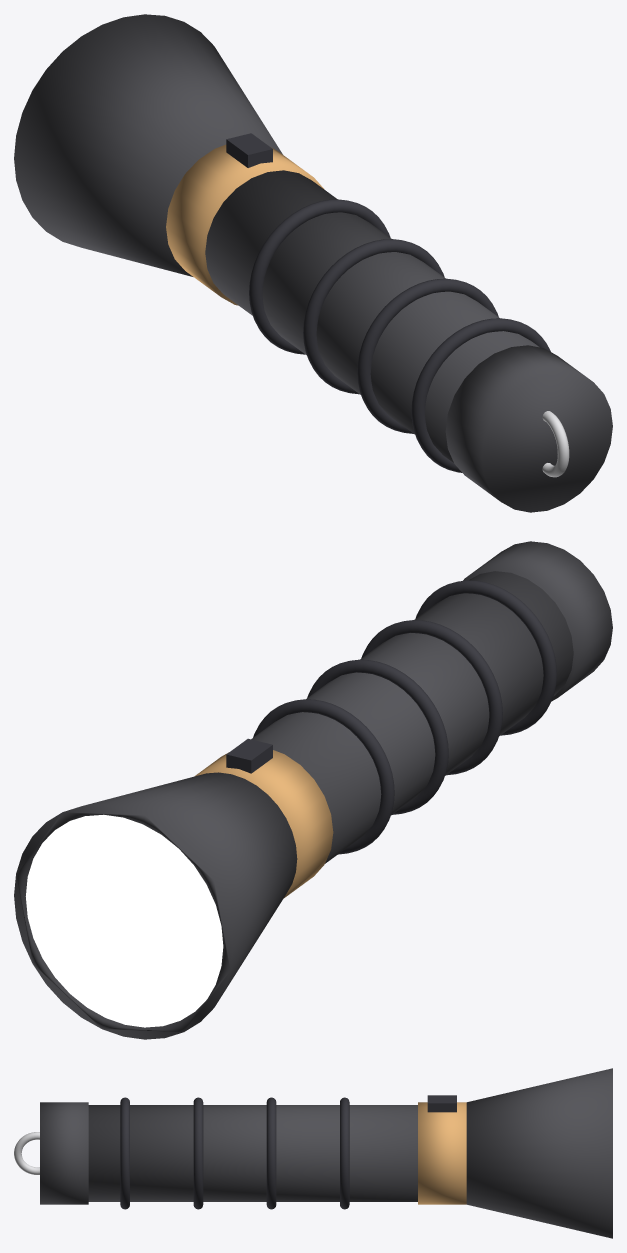
Rendered from torch.glb.
The picture shows the model from 3 angles, top to bottom: view 1: azimuth 30°, elevation 25°; view 2: azimuth 150°, elevation 25°; view 3: azimuth 270°, elevation 25°; orthographic projection. The views are drawn at different scales.
Visible parts, largest first — view 1: Torch_Head_Outer, Torch_Handle, Torch_Tailcap, Torch_Copper_Neck, Torch_Grip_Ring_4, Torch_Grip_Ring_3, Torch_Grip_Ring_2, Torch_Grip_Ring_1, Torch_Power_Switch, Torch_Lanyard_Loop; view 2: Torch_Handle, Torch_Front_Lens, Torch_Head_Outer, Torch_Tailcap, Torch_Copper_Neck, Torch_Grip_Ring_4, Torch_Grip_Ring_1, Torch_Grip_Ring_2, Torch_Grip_Ring_3, Torch_Power_Switch; view 3: Torch_Handle, Torch_Head_Outer, Torch_Tailcap, Torch_Copper_Neck, Torch_Grip_Ring_2, Torch_Grip_Ring_3, Torch_Grip_Ring_1, Torch_Grip_Ring_4, Torch_Power_Switch, Torch_Lanyard_Loop.
Part boxes in pixels (x1=…): Torch_Head_Outer: x1=14, y1=14, x2=282, y2=276; Torch_Handle: x1=205, y1=170, x2=539, y2=462; Torch_Tailcap: x1=445, y1=345, x2=612, y2=512; Torch_Copper_Neck: x1=166, y1=144, x2=324, y2=305; Torch_Grip_Ring_4: x1=249, y1=199, x2=390, y2=354; Torch_Grip_Ring_3: x1=303, y1=239, x2=444, y2=394; Torch_Grip_Ring_2: x1=357, y1=278, x2=498, y2=433; Torch_Grip_Ring_1: x1=411, y1=318, x2=550, y2=472; Torch_Power_Switch: x1=226, y1=133, x2=272, y2=167; Torch_Lanyard_Loop: x1=542, y1=411, x2=569, y2=477; Torch_Handle: x1=251, y1=571, x2=573, y2=863; Torch_Front_Lens: x1=25, y1=814, x2=223, y2=1027; Torch_Head_Outer: x1=14, y1=772, x2=297, y2=1039; Torch_Tailcap: x1=463, y1=541, x2=612, y2=701; Torch_Copper_Neck: x1=194, y1=750, x2=333, y2=898; Torch_Grip_Ring_4: x1=253, y1=699, x2=394, y2=854; Torch_Grip_Ring_1: x1=415, y1=580, x2=556, y2=735; Torch_Grip_Ring_2: x1=361, y1=620, x2=502, y2=775; Torch_Grip_Ring_3: x1=307, y1=659, x2=448, y2=814; Torch_Power_Switch: x1=226, y1=738, x2=272, y2=773; Torch_Handle: x1=88, y1=1105, x2=417, y2=1201; Torch_Head_Outer: x1=466, y1=1068, x2=612, y2=1238; Torch_Tailcap: x1=40, y1=1102, x2=88, y2=1204; Torch_Copper_Neck: x1=418, y1=1102, x2=466, y2=1204; Torch_Grip_Ring_2: x1=193, y1=1097, x2=203, y2=1209; Torch_Grip_Ring_3: x1=266, y1=1097, x2=276, y2=1209; Torch_Grip_Ring_1: x1=120, y1=1097, x2=129, y2=1209; Torch_Grip_Ring_4: x1=340, y1=1097, x2=349, y2=1209; Torch_Power_Switch: x1=427, y1=1095, x2=456, y2=1112; Torch_Lanyard_Loop: x1=14, y1=1132, x2=39, y2=1174.
Size of the model in its own units: 0.07 by 0.07 by 0.2456.
